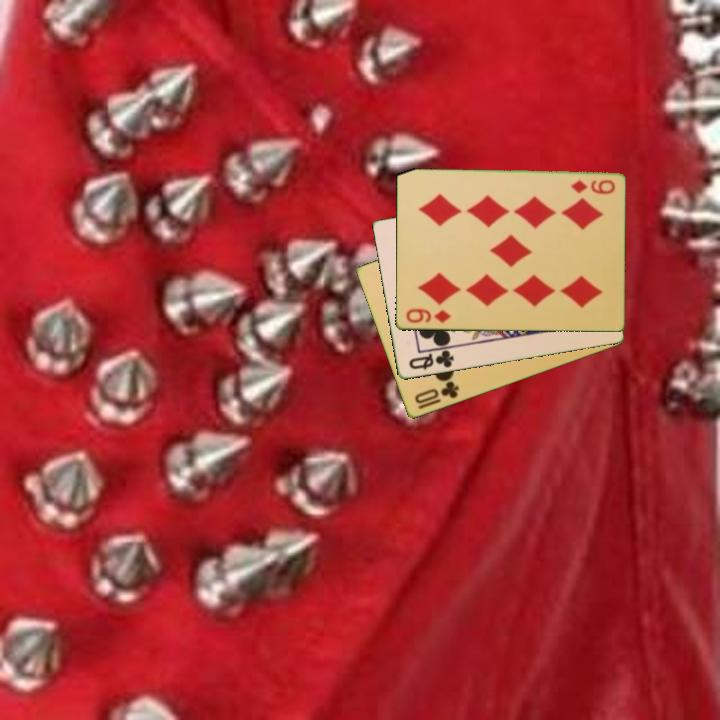10c: (411, 378, 462, 407)
9d: (402, 305, 453, 326), (567, 177, 617, 196)
Qc: (405, 347, 456, 373)
